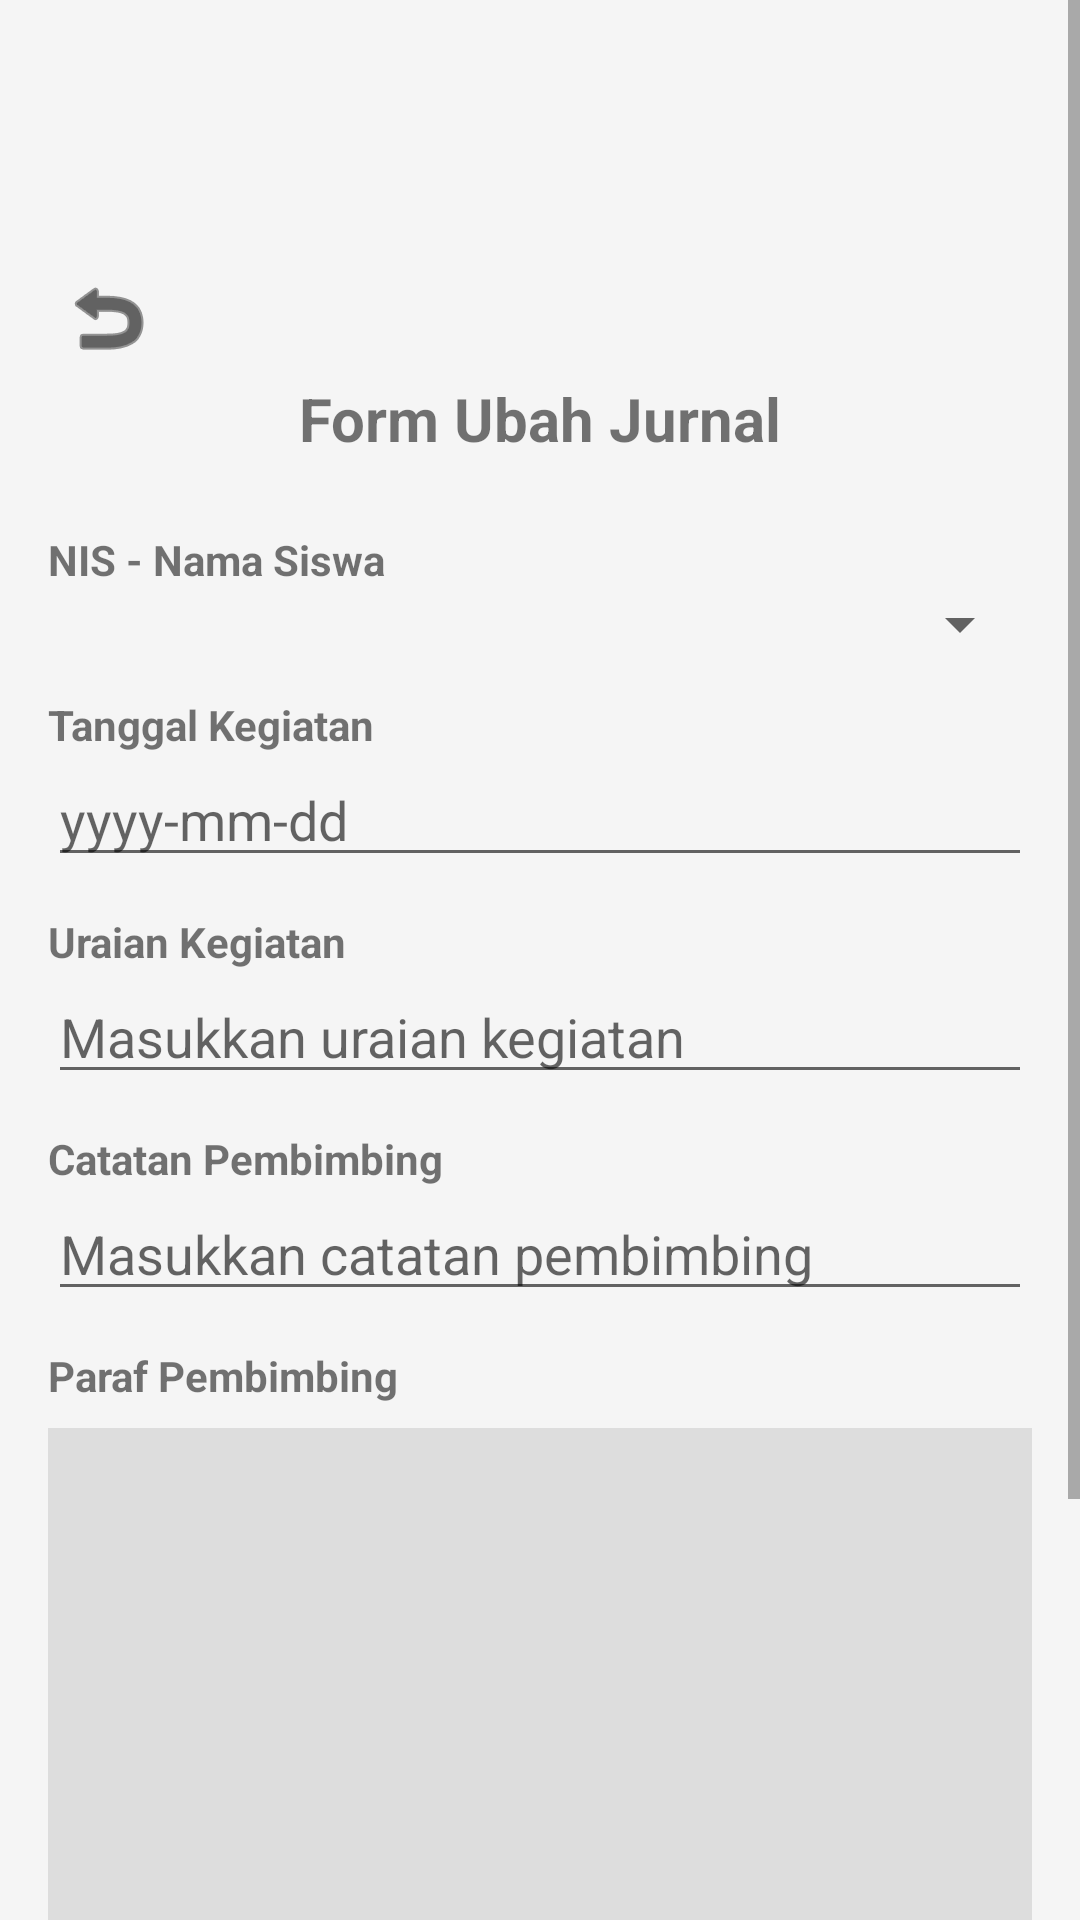

Icon bounding boxes for this 1080×1920 phone screenshot, format (x1, y1, x2, y2):
Kembali: (75, 287, 144, 350)
